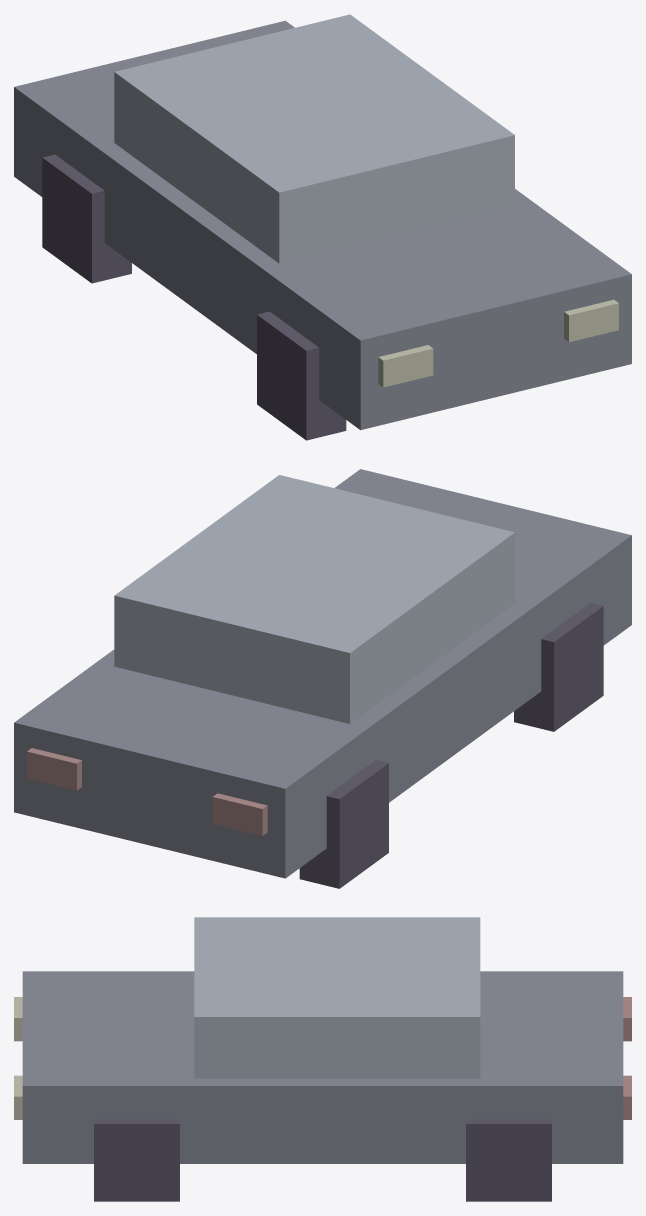
File: veh_sedan.glb
3 renders of one model, top to bottom at view 1: azimuth 30°, elevation 25°; view 2: azimuth 150°, elevation 25°; view 3: azimuth 270°, elevation 25°, orthographic. The views are drawn at different scales.
Visible parts, largest first — view 1: veh_sedan; view 2: veh_sedan; view 3: veh_sedan.
Part boxes in pixels (x1,y1,x2,y2): veh_sedan: (14,14,631,440); veh_sedan: (14,469,631,888); veh_sedan: (14,917,631,1201).
Bounding box in the file's own units: 2.08 × 1.33 × 4.32.
